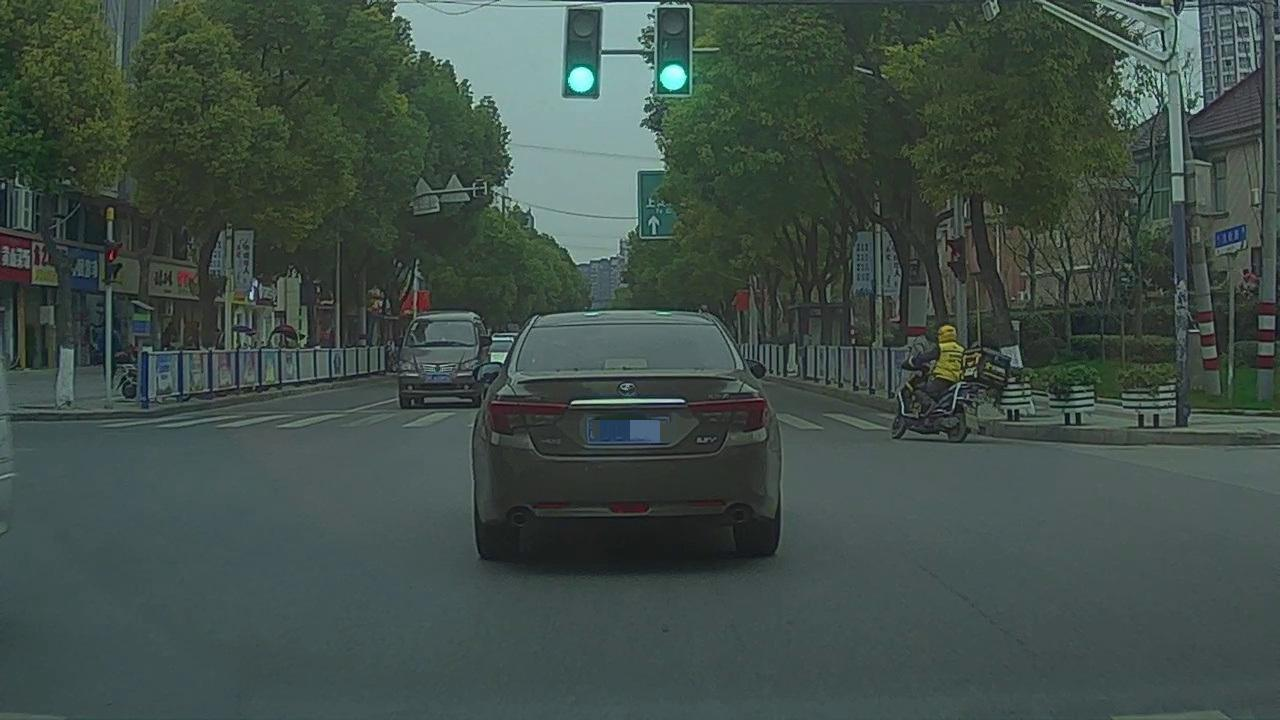traffic_light: (568, 5, 598, 97), (658, 8, 690, 90)
